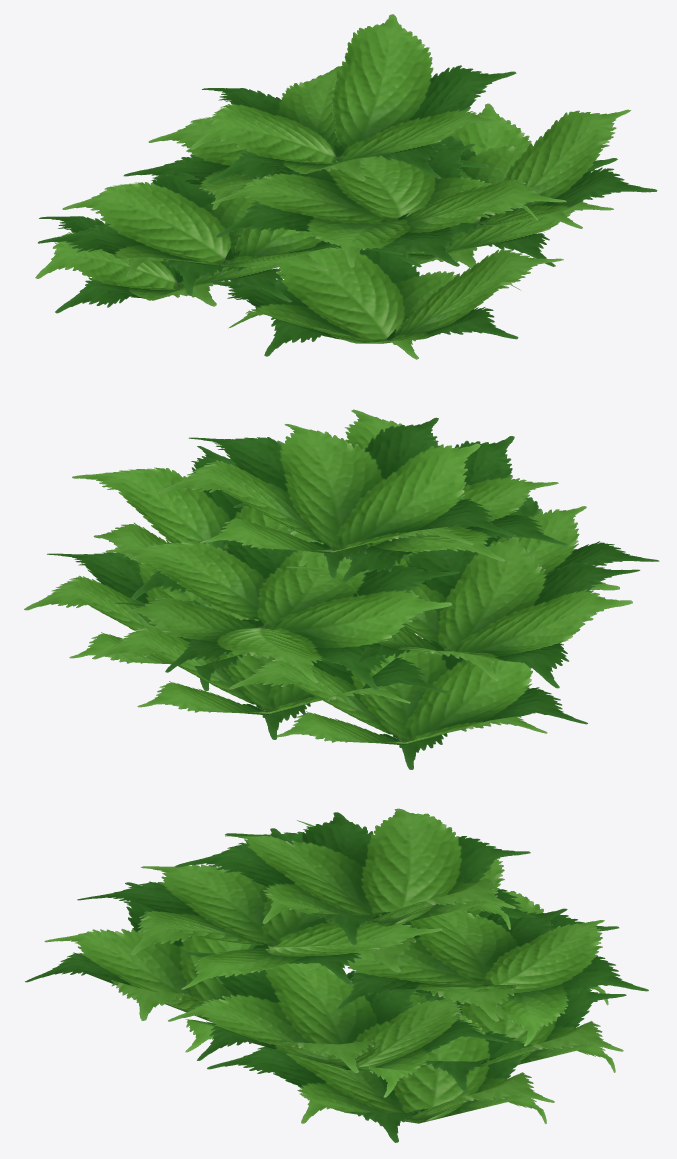
The model's file is Bush.fbx.
3 views of the same model, one above another, from view 1: azimuth 30°, elevation 25°; view 2: azimuth 150°, elevation 25°; view 3: azimuth 270°, elevation 25° (orthographic). The views are drawn at different scales.
Visible parts, largest first — view 1: Bush; view 2: Bush; view 3: Bush.
Boxes of the visible parts, left/top/right/bottom form: Bush: left=35, top=14, right=657, bottom=359; Bush: left=24, top=409, right=659, bottom=769; Bush: left=25, top=808, right=648, bottom=1142.
Bounding box in the file's own units: 114 × 40.14 × 108.
